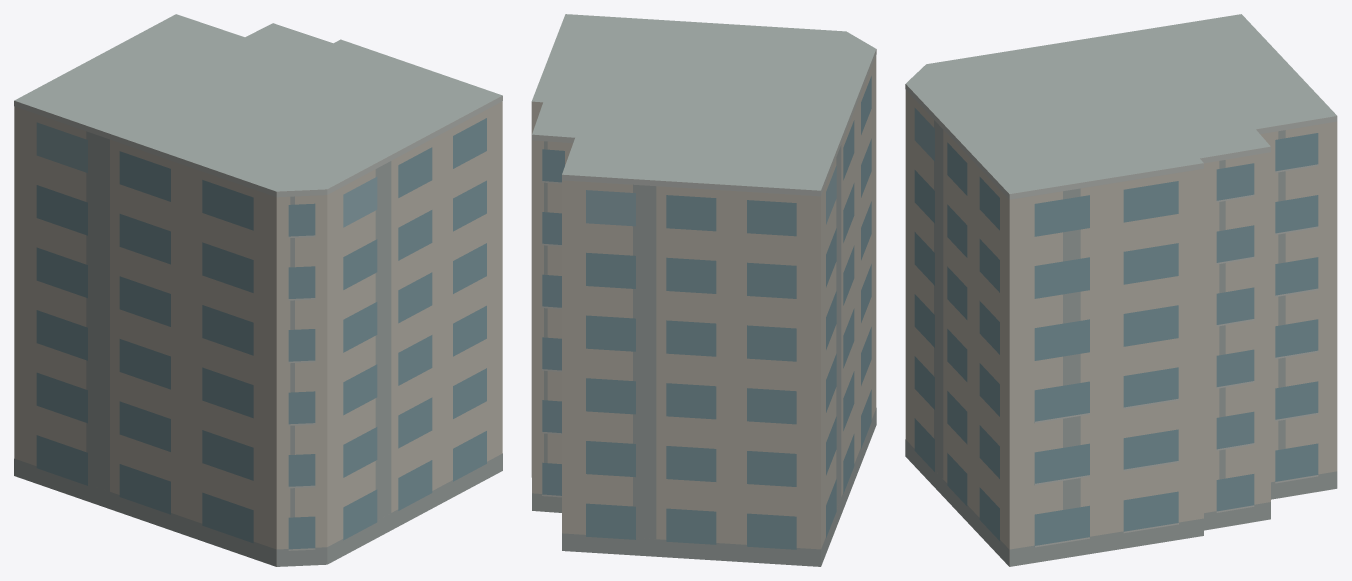
The model's file is survey-upis-32862804.glb.
3 views of the same model, side by side, from view 1: azimuth 30°, elevation 25°; view 2: azimuth 150°, elevation 25°; view 3: azimuth 270°, elevation 25° (orthographic).
Visible parts, largest first — view 1: survey-upis-32862804.tmp; view 2: survey-upis-32862804.tmp; view 3: survey-upis-32862804.tmp.
Part boxes in pixels (x1,y1,x2,y2): survey-upis-32862804.tmp: [14, 14, 502, 566]; survey-upis-32862804.tmp: [531, 14, 876, 566]; survey-upis-32862804.tmp: [905, 14, 1337, 566].
Bounding box in the file's own units: 16.75 × 16.15 × 16.97.
